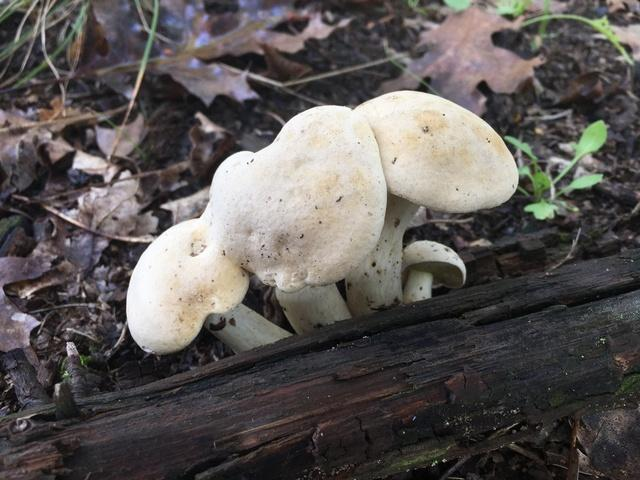Edible Mushroom: (124, 103, 388, 356), (343, 88, 519, 316)
